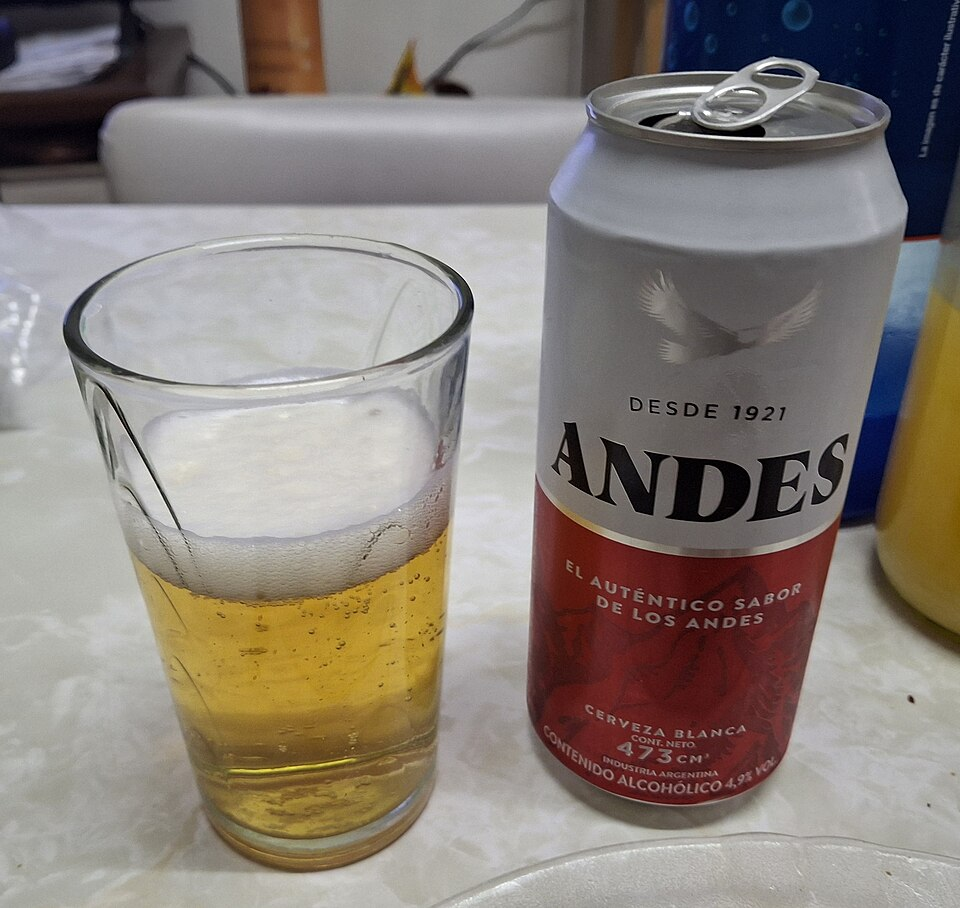beer-can: (493, 59, 919, 852)
